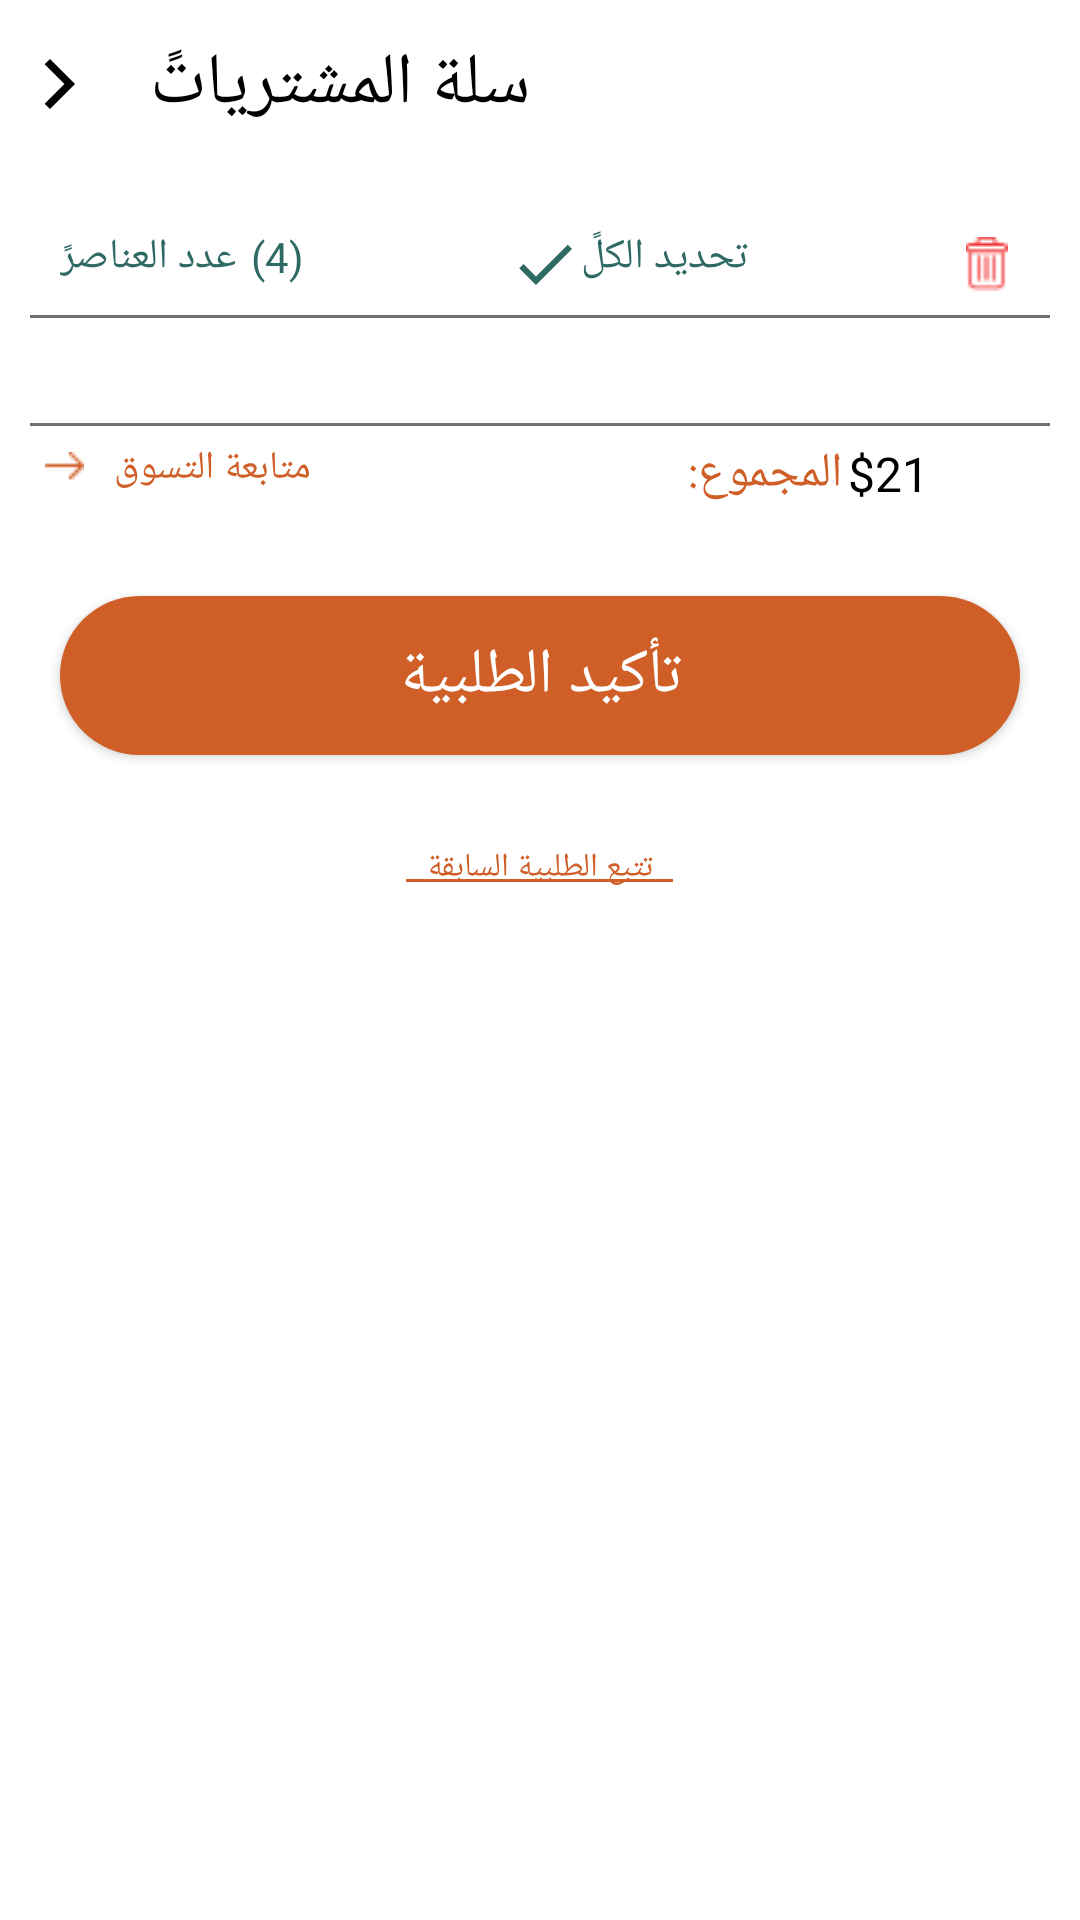

Screen size 1080w x 1920h. Icon name, then its box in pixels as (x1, y1, x2, y2):
check: (519, 245, 572, 285)
delete: (966, 237, 1008, 291)
